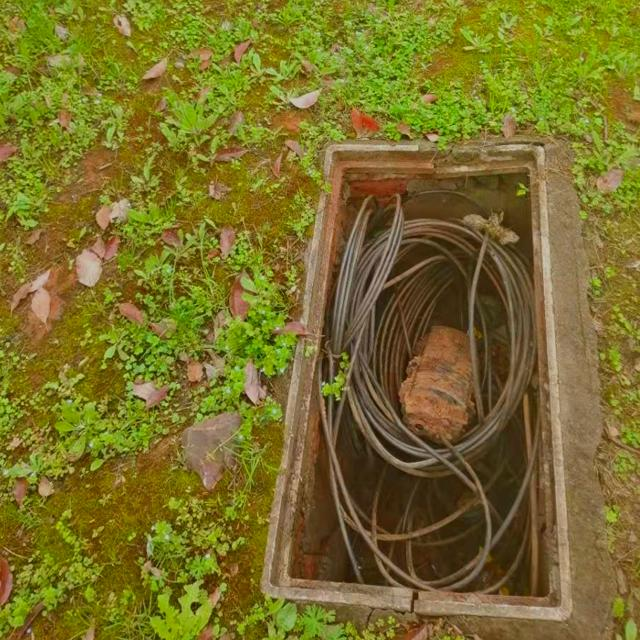lose: (259, 139, 573, 617)
